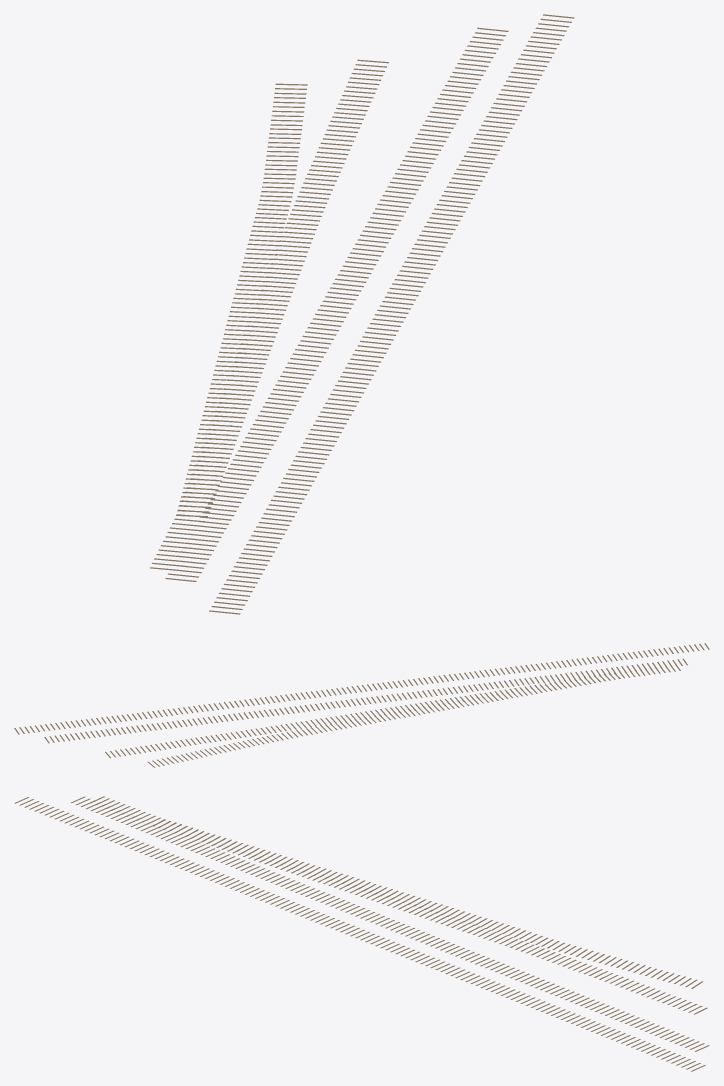
Rendered from c_1631_17830_rail_sleeper.glb.
3 views of the same model, one above another, from view 1: azimuth 30°, elevation 25°; view 2: azimuth 150°, elevation 25°; view 3: azimuth 270°, elevation 25° (orthographic). The views are drawn at different scales.
Parts seen in each view (by area): view 1: geometry_0; view 2: geometry_0; view 3: geometry_0.
Part boxes in pixels (bbox=[...]): geometry_0: bbox=[150, 14, 574, 614]; geometry_0: bbox=[14, 643, 709, 767]; geometry_0: bbox=[14, 796, 709, 1071].
Bounding box in the file's own units: 76.19 × 0.3362 × 80.69.
